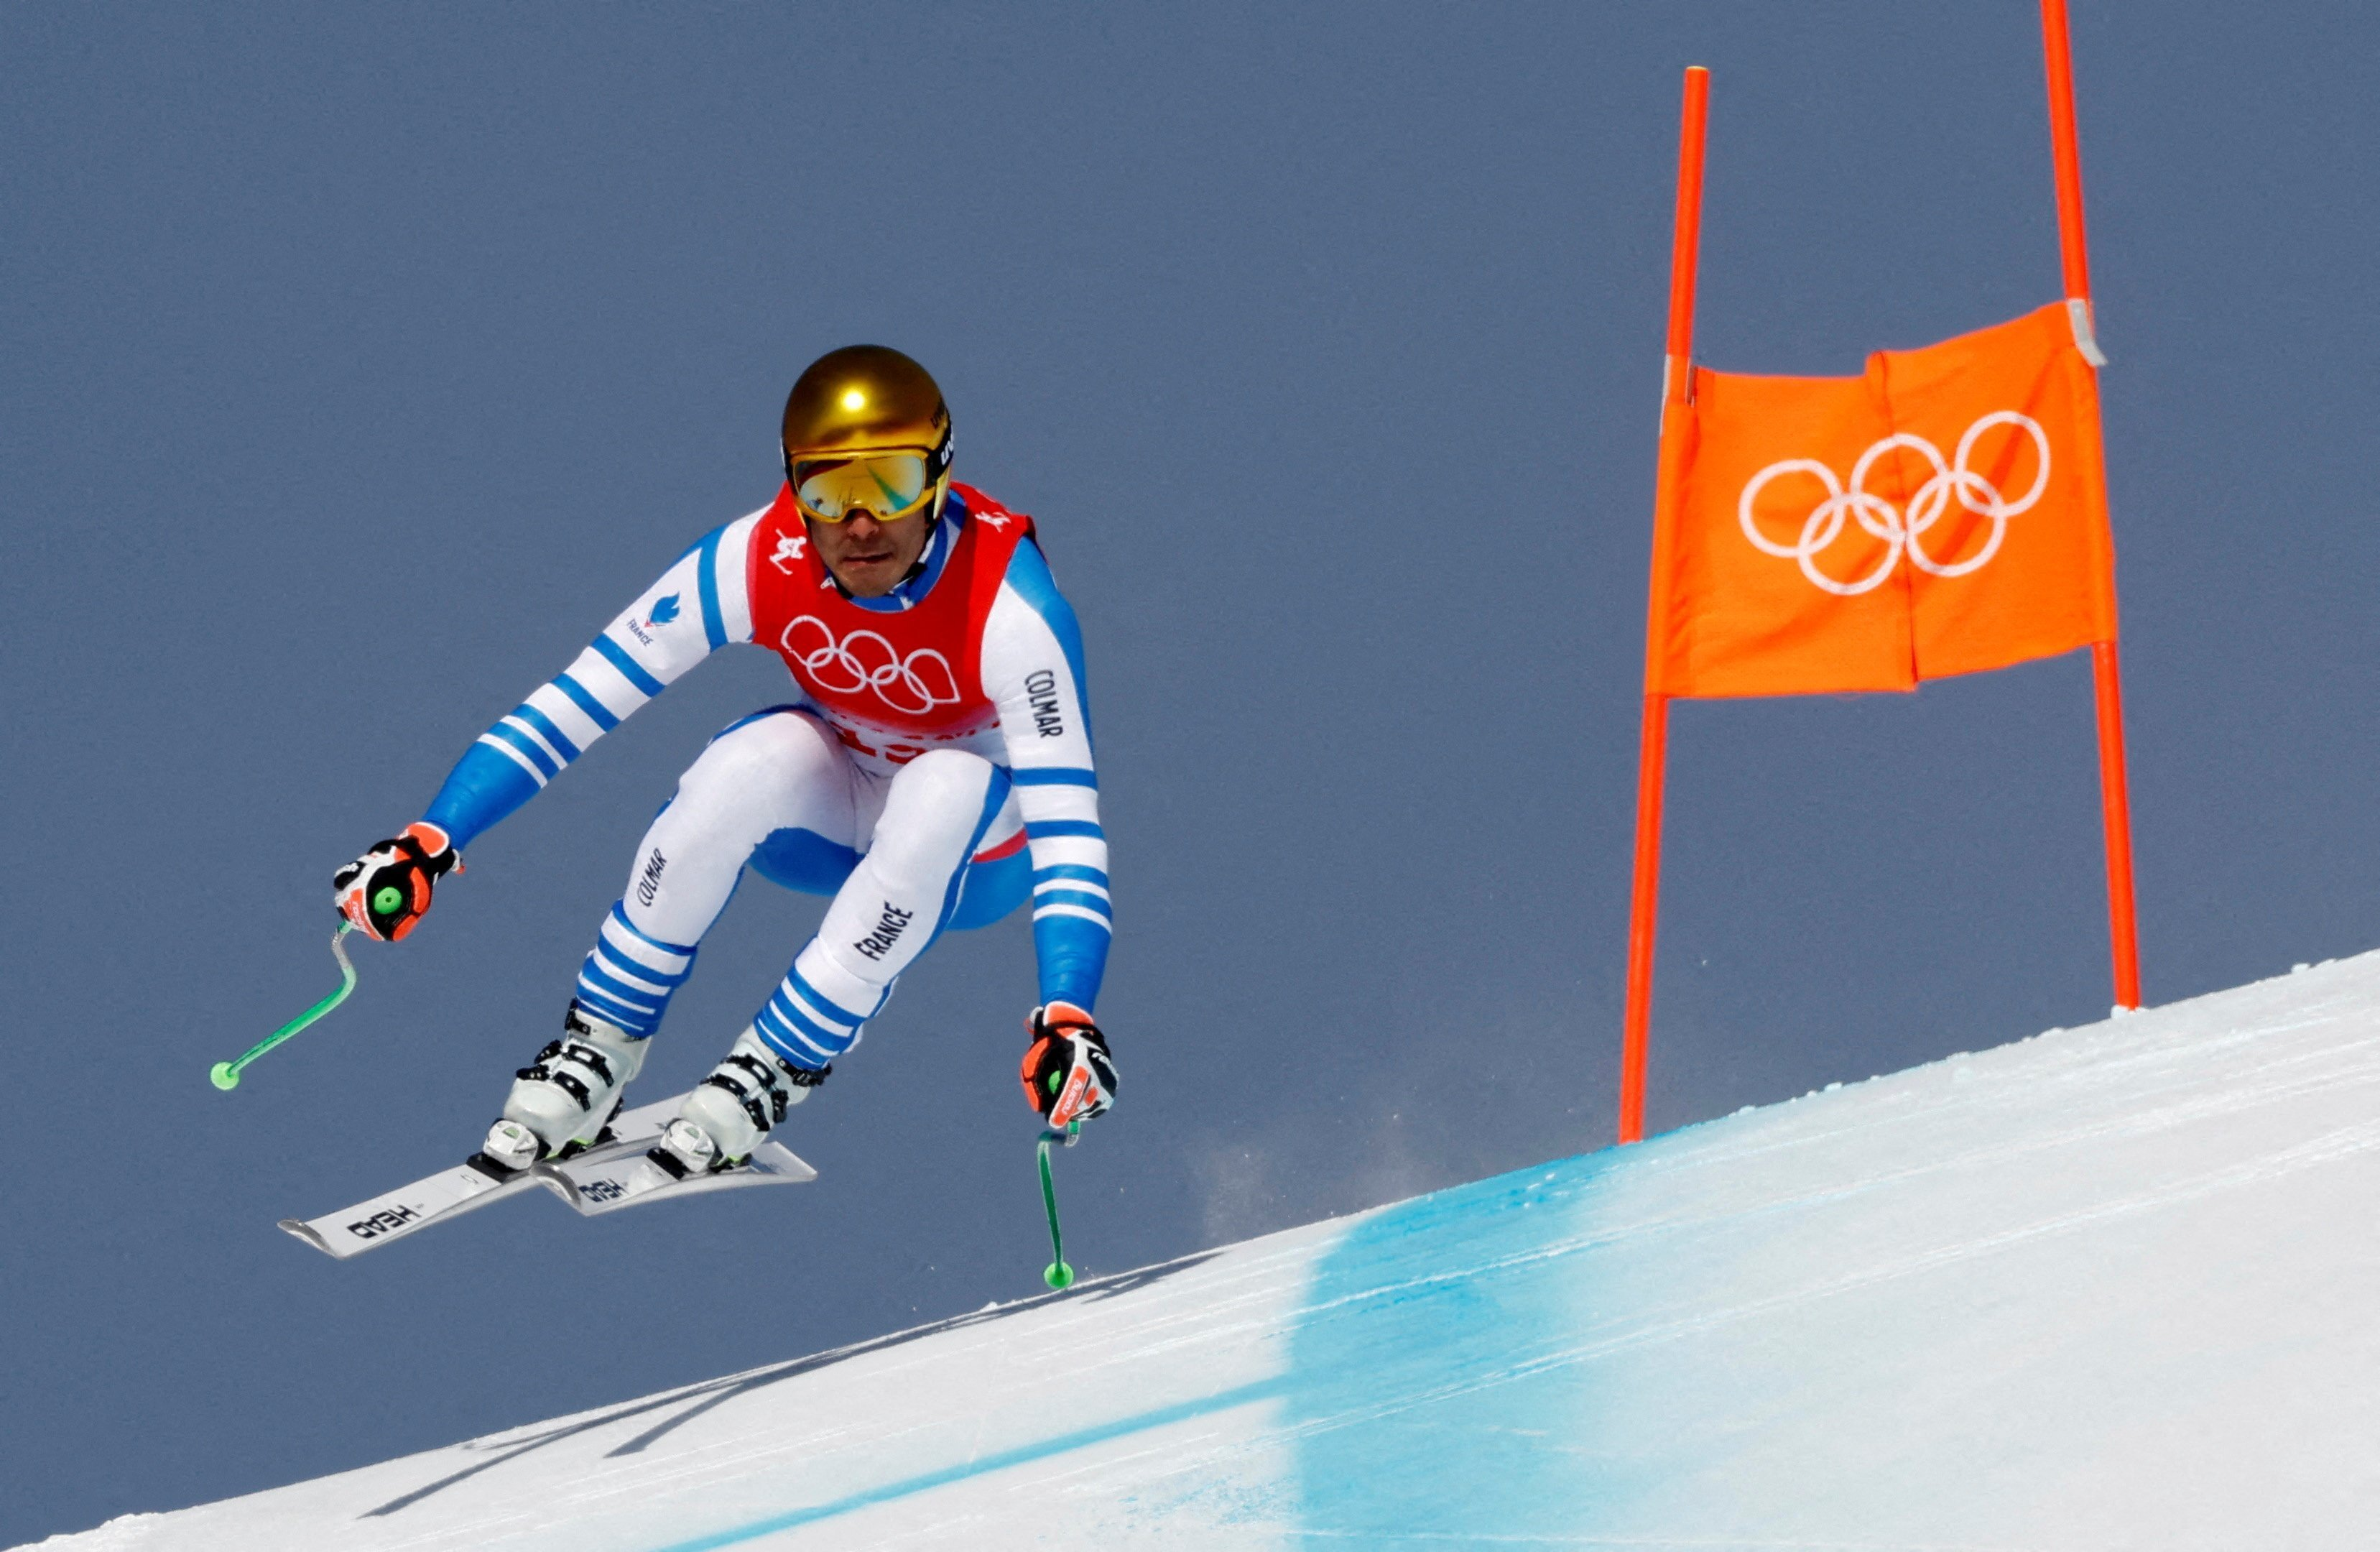skier: (191, 345, 1187, 1238)
